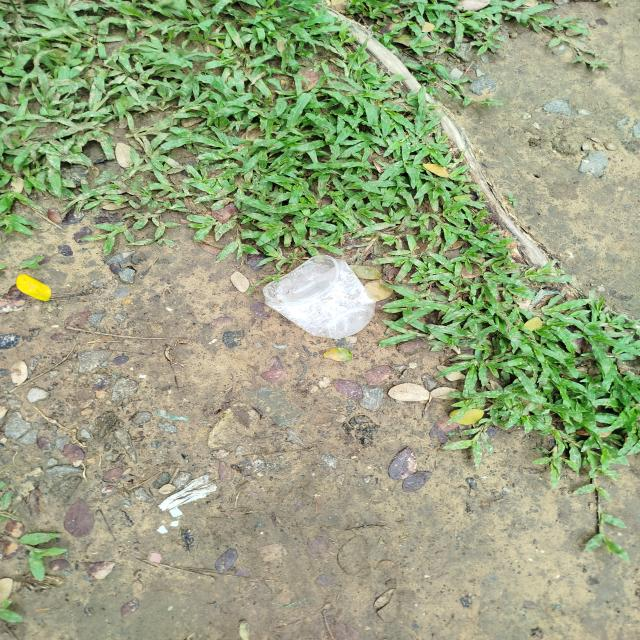plastic: (237, 246, 395, 360)
